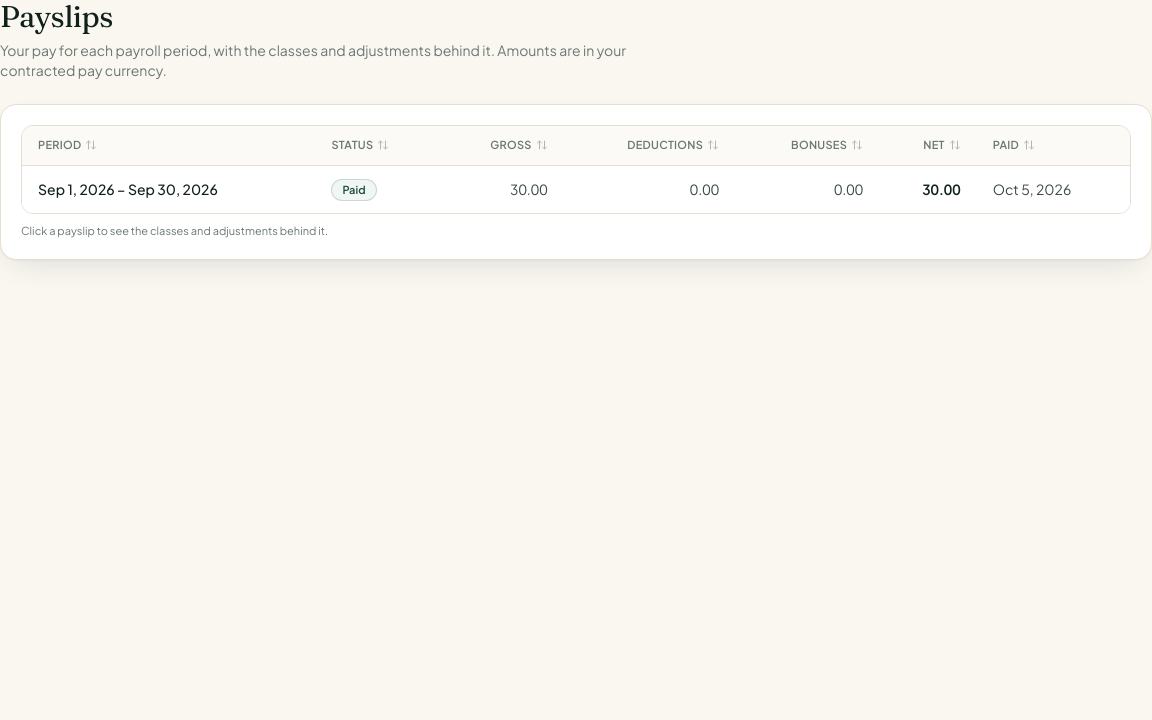
Test case: PayslipsScreen › renders payslips with totals and expandable line items
The image size is (1152, 720).
Locale-agnostic: the period row reads "Sep 1, 2026 – Sep 30, 2026" (US) or "1 Sep 2026 …" (GB).
Step 1. Click the text "Sep 1, 2026 – Sep 30, 2026" → point(128, 189), box [38,180,218,198]
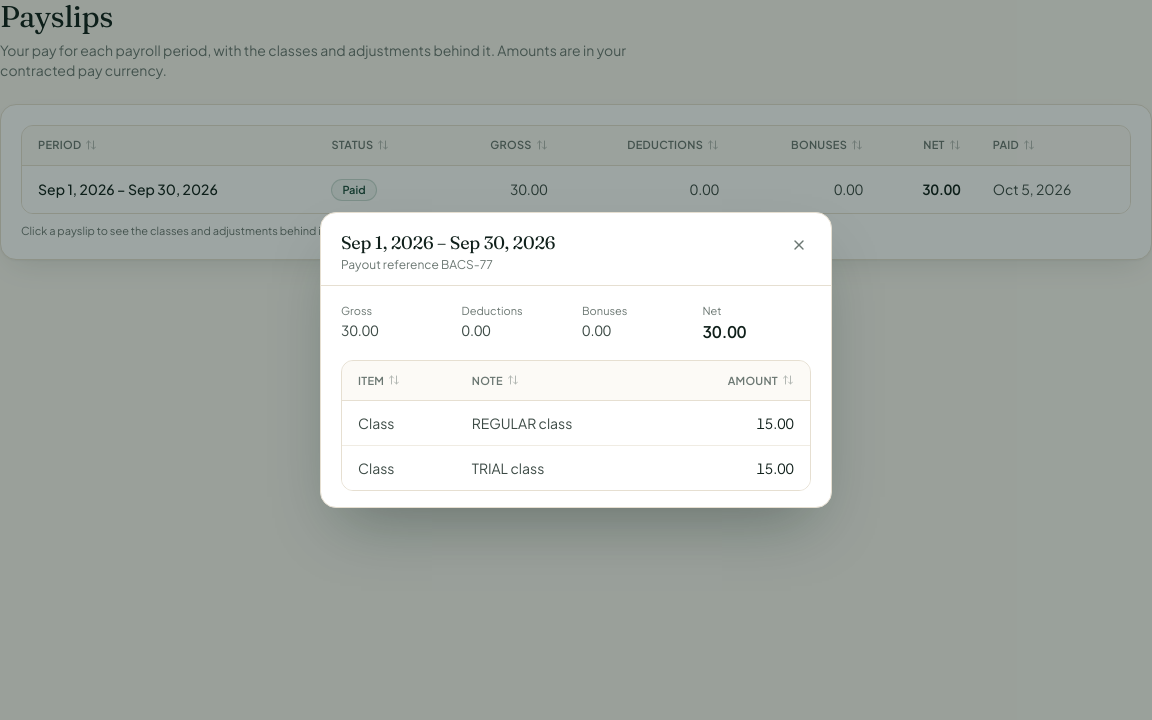
Check: the text "Payout reference BACS-77" is shown, box [341,257,493,272]
Check: the text "REGULAR class" is shown, box [456,401,659,446]
Check: the text "15.00" is shown 2 times, box [756,414,794,432]; [756,459,794,477]
